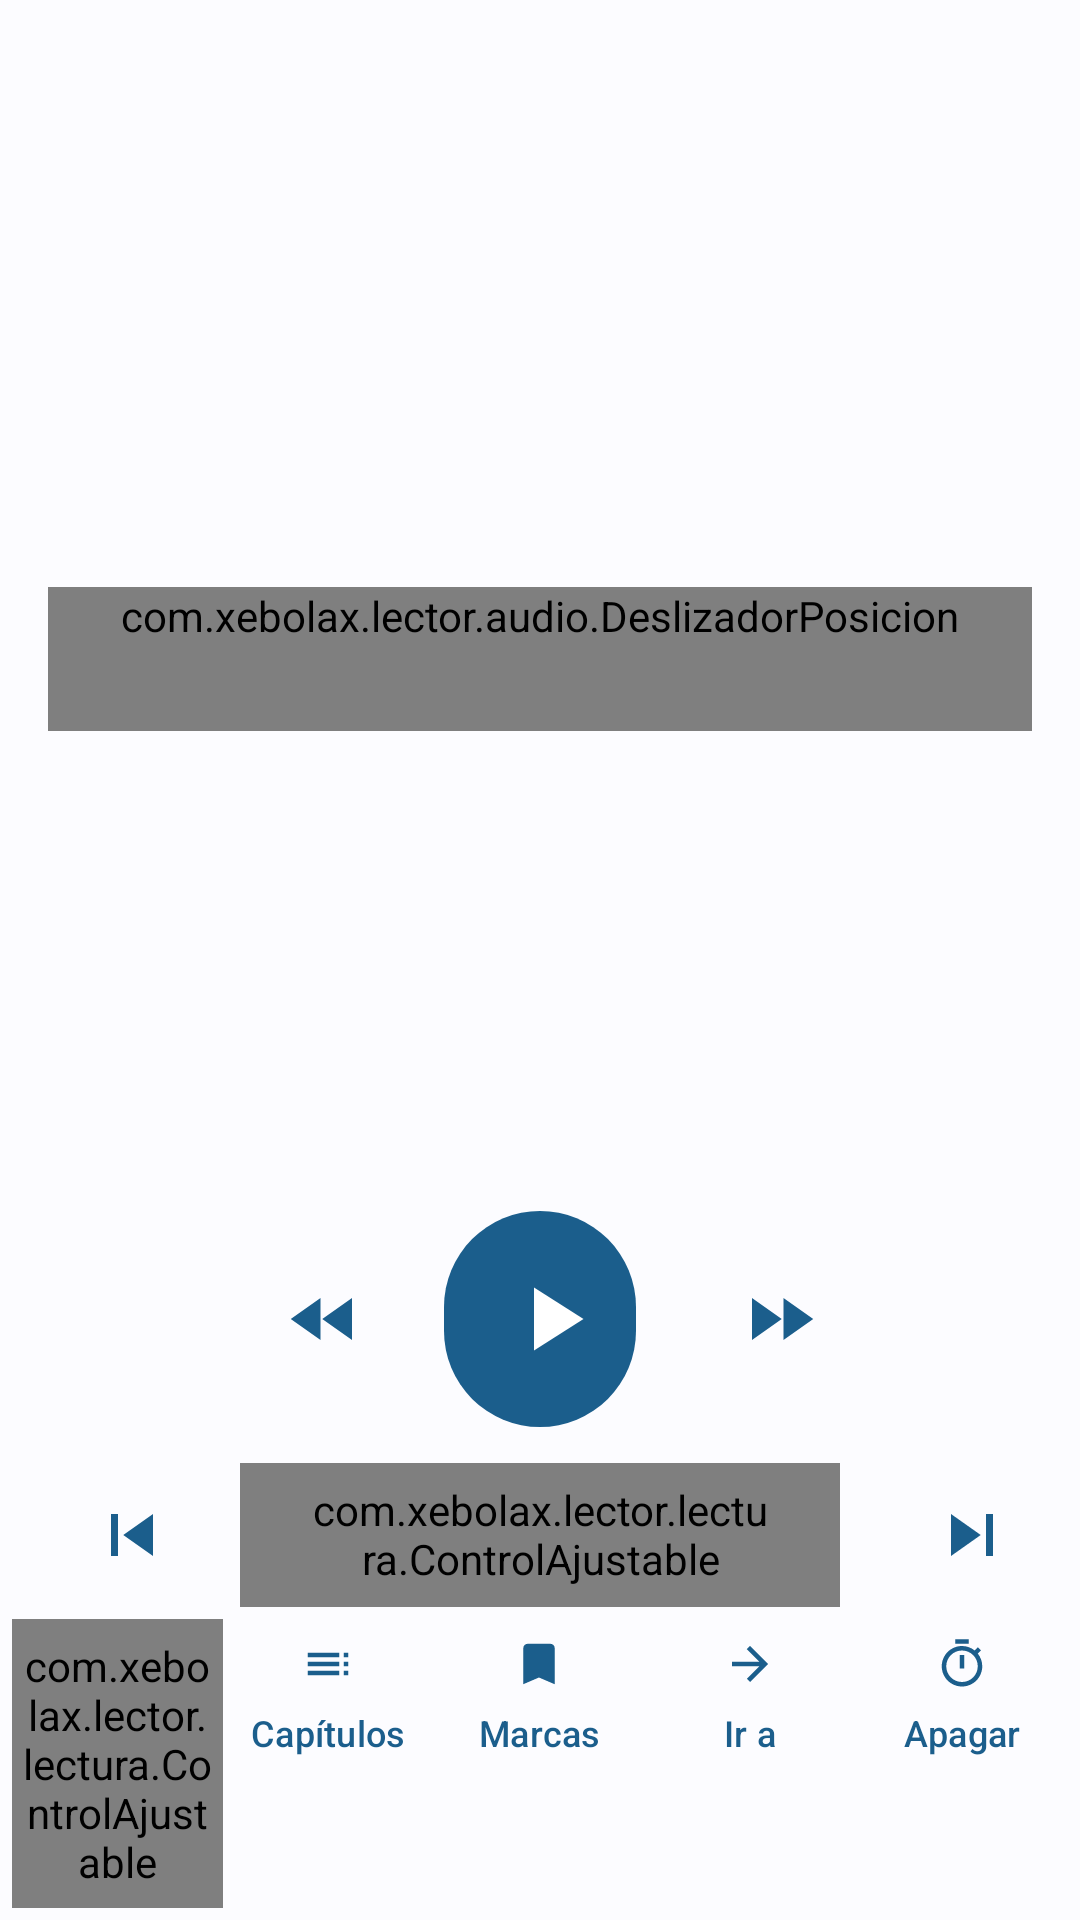

Icons on this 1080*1920 Android screen, each with its box as (x1, y1, x2, y2):
Anterior: (111, 1514, 153, 1556)
avanzar: (752, 1298, 813, 1340)
Reproducir: (444, 1211, 636, 1427)
retroceder: (291, 1298, 352, 1340)
Siguiente: (951, 1514, 993, 1556)
